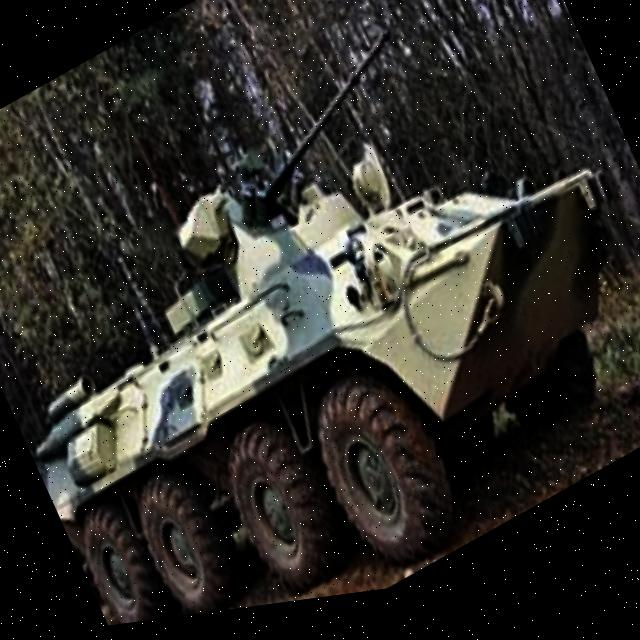MIL_APC: (0, 22, 640, 640)
